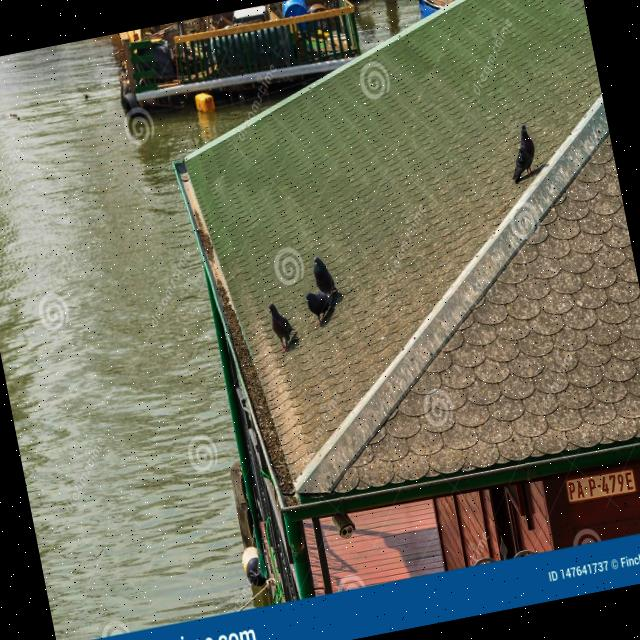bird: (502, 122, 542, 184), (266, 299, 300, 354), (310, 252, 340, 302), (304, 287, 338, 329)
